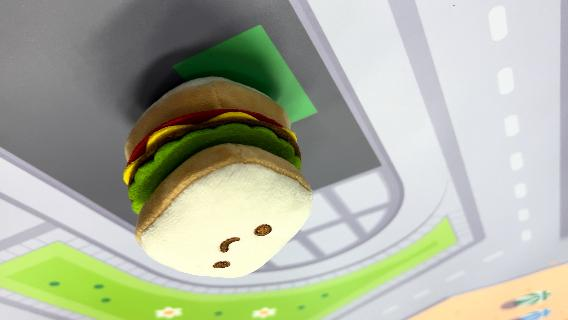sandwich: (120, 74, 316, 278)
